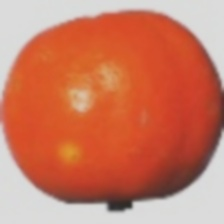tangerine: (13, 32, 180, 188)
